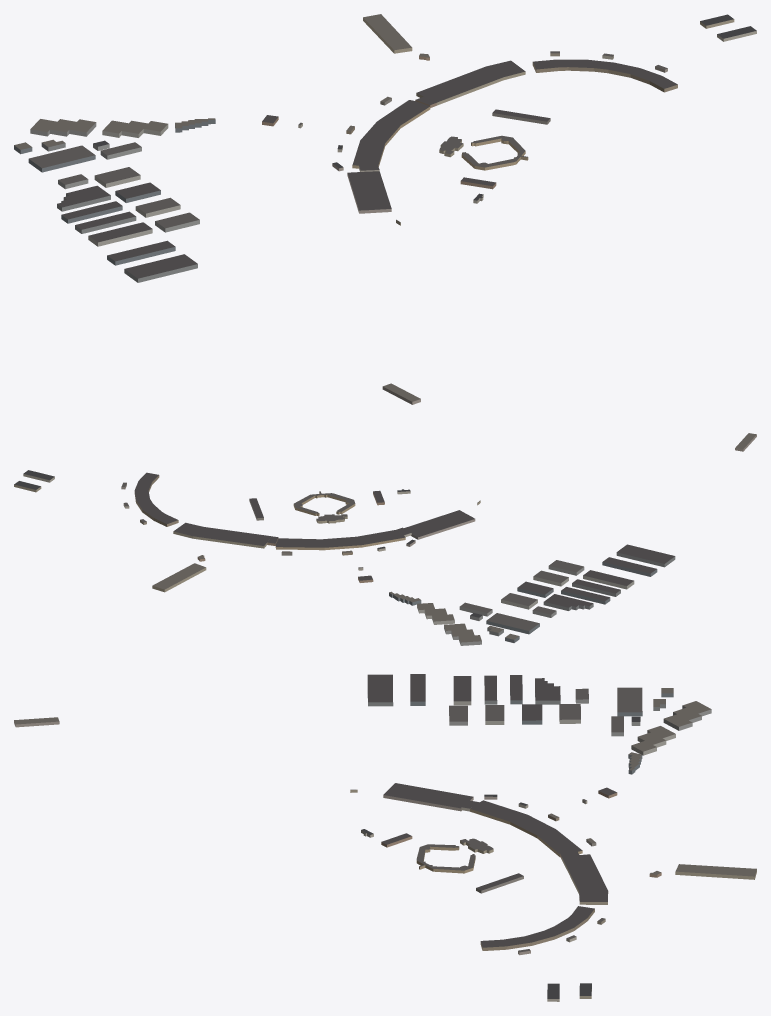
The model's file is scenery.glb.
3 views of the same model, one above another, from view 1: azimuth 30°, elevation 25°; view 2: azimuth 150°, elevation 25°; view 3: azimuth 270°, elevation 25° (orthographic). The views are drawn at different scales.
Parts seen in each view (by area): view 1: chunk_13_13, chunk_13_14, chunk_14_13, chunk_15_13, chunk_16_13, chunk_15_14, chunk_14_14, chunk_15_12, chunk_17_13; view 2: chunk_13_13, chunk_13_14, chunk_14_13, chunk_15_13, chunk_14_14, chunk_15_14, chunk_16_13, chunk_15_12, chunk_17_13; view 3: chunk_13_13, chunk_13_14, chunk_14_13, chunk_15_13, chunk_15_14, chunk_16_13, chunk_14_14, chunk_15_12.
Part boxes in pixels (box(x1,y1,x2,y2)): chunk_13_13: box(14, 119, 168, 211); chunk_13_14: box(61, 197, 199, 282); chunk_14_13: box(175, 100, 430, 168); chunk_15_13: box(380, 53, 525, 107); chunk_16_13: box(532, 51, 677, 92); chunk_15_14: box(439, 109, 550, 189); chunk_14_14: box(332, 162, 483, 225); chunk_15_12: box(363, 14, 412, 53); chunk_17_13: box(700, 14, 756, 41); chunk_13_13: box(417, 581, 593, 645); chunk_13_14: box(533, 544, 675, 604); chunk_14_13: box(275, 529, 421, 605); chunk_15_13: box(173, 522, 292, 561); chunk_14_14: box(397, 489, 480, 546); chunk_15_14: box(249, 490, 384, 523); chunk_16_13: box(121, 472, 178, 526); chunk_15_12: box(152, 563, 206, 592); chunk_17_13: box(14, 470, 54, 492); chunk_13_13: box(522, 678, 711, 755); chunk_13_14: box(367, 674, 522, 725); chunk_14_13: box(470, 752, 642, 856); chunk_15_13: box(560, 838, 661, 904); chunk_15_14: box(381, 833, 523, 893); chunk_16_13: box(480, 906, 605, 955); chunk_14_14: box(350, 783, 497, 837); chunk_15_12: box(675, 864, 756, 879).
Size of the model in its own units: 1835 by 35.26 by 1759.
